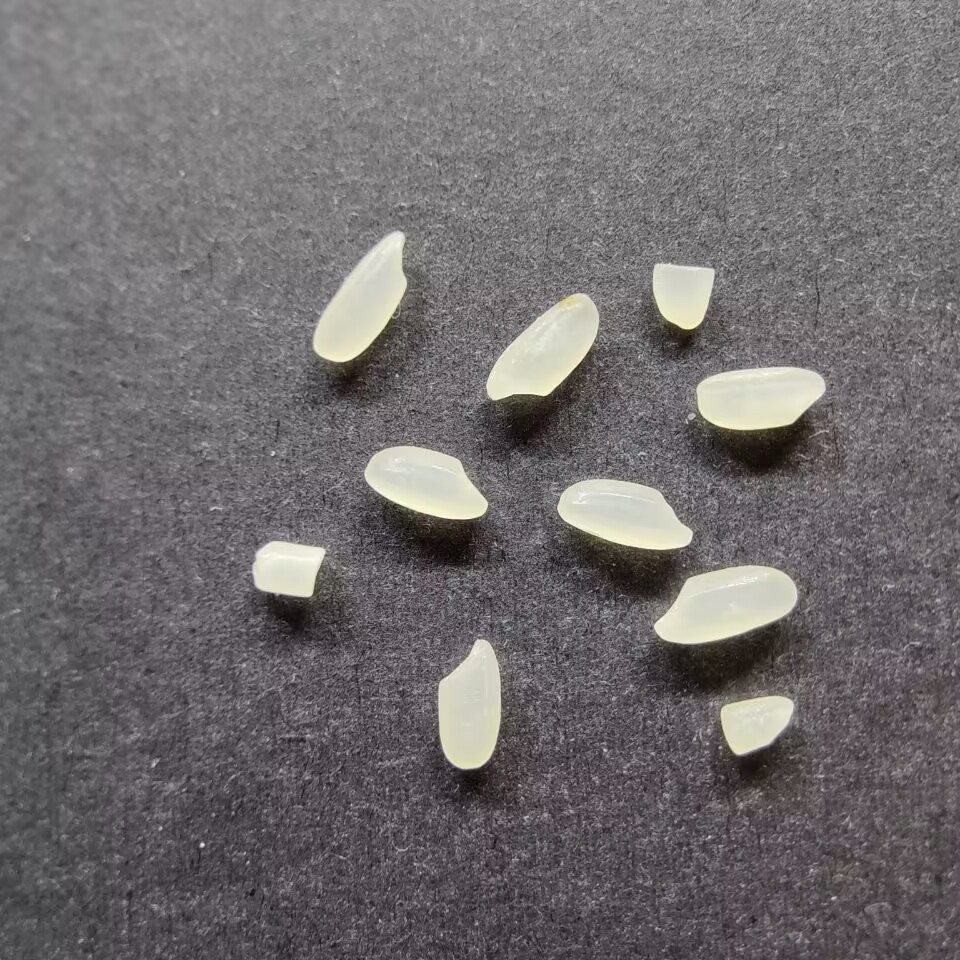broken: (719, 694, 796, 756), (651, 261, 717, 330), (251, 540, 324, 598)
rice: (312, 229, 408, 362), (484, 292, 599, 401), (653, 565, 798, 645), (556, 477, 693, 551), (362, 445, 488, 520), (435, 637, 502, 770), (695, 366, 826, 431)
